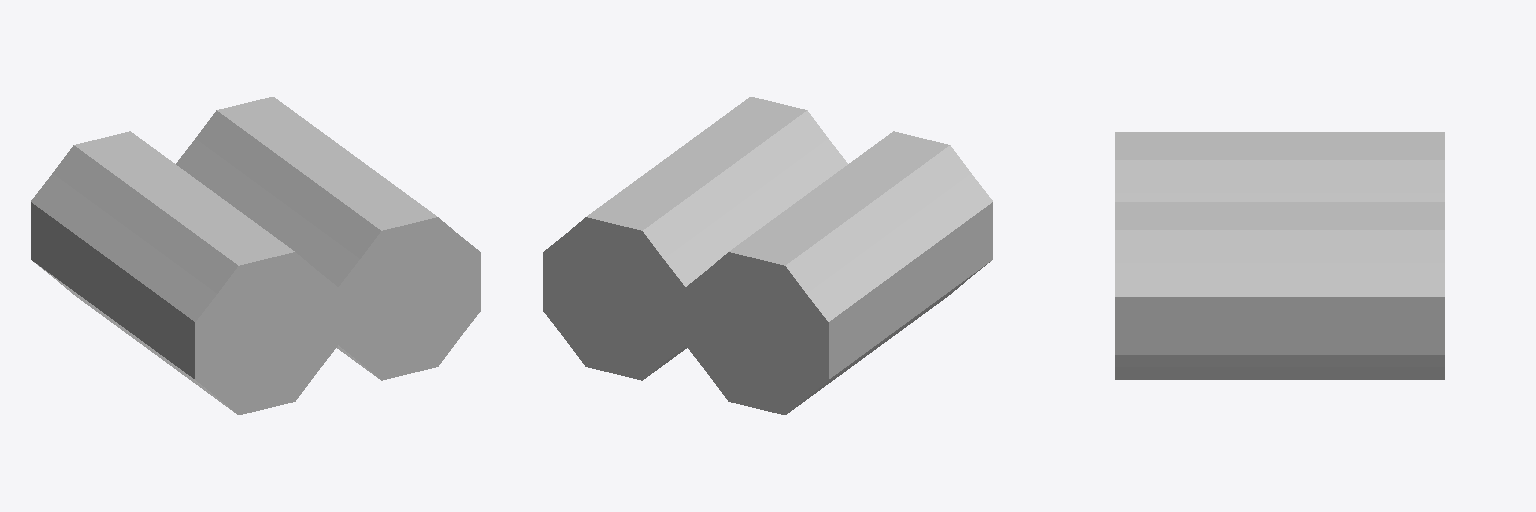
Rendered from log_pile_4.obj.
3 renders of one model, left to right at view 1: azimuth 30°, elevation 25°; view 2: azimuth 150°, elevation 25°; view 3: azimuth 270°, elevation 25°, orthographic.
Parts seen in each view (by area): view 1: log.003, log.001, log.002, log; view 2: log.002, log, log.003, log.001; view 3: log, log.001, log.002, log.003.
Boxes of the visible parts, x1=… form: log.003: x1=113, y1=192, x2=338, y2=414; log.001: x1=258, y1=157, x2=480, y2=380; log.002: x1=31, y1=131, x2=212, y2=352; log: x1=176, y1=97, x2=354, y2=223; log.002: x1=685, y1=192, x2=910, y2=414; log: x1=543, y1=157, x2=765, y2=380; log.003: x1=811, y1=131, x2=992, y2=352; log.001: x1=669, y1=97, x2=847, y2=223; log: x1=1280, y1=202, x2=1444, y2=379; log.001: x1=1115, y1=202, x2=1279, y2=379; log.002: x1=1280, y1=132, x2=1444, y2=201; log.003: x1=1115, y1=132, x2=1279, y2=201.
Bounding box in the file's own units: 1 × 0.5015 × 1.